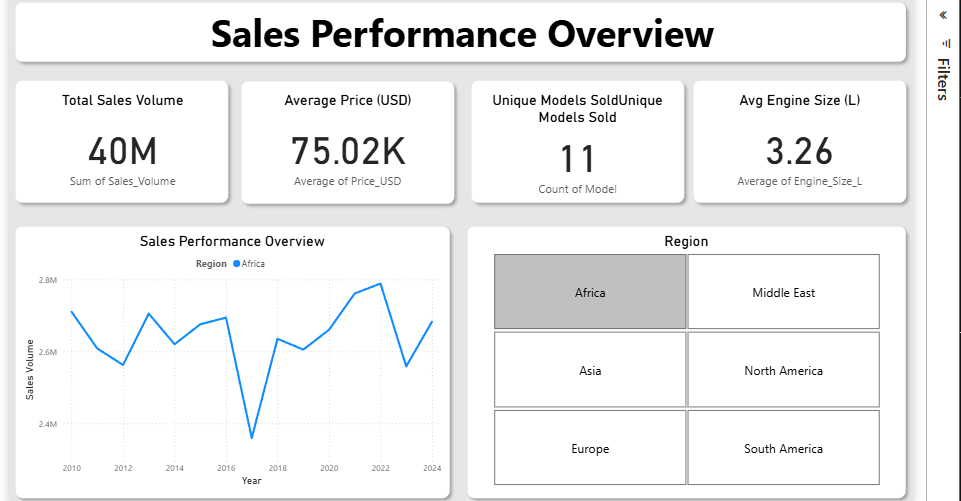

The dashboard page shown, as its layout file describes it:
{"tool":"powerbi","page":{"name":" Sales Overview","canvas":[1280,720],"ordinal":0},"visuals":[{"type":"shape","box":[0,110.9,319.7,191.5],"z":0},{"type":"shape","box":[319.7,112.3,319.7,191.5],"z":500},{"type":"shape","box":[646.6,110.9,319.7,191.5],"z":750},{"type":"shape","box":[0,0,1280.2,102.2],"z":812},{"type":"shape","box":[960.5,110.9,319.7,191.5],"z":875},{"type":"shape","box":[0,316.8,633.6,403.2],"z":937},{"type":"shape","box":[640.8,316.8,639.4,403.2],"z":968},{"type":"card","title":"Average Price (USD)","fields":{"Values":["Avg(BMW sales data (2010-2024) (1).Price_USD)"]},"box":[341.8,126.5,276.8,160.6],"z":1000},{"type":"card","title":"Total Sales Volume","fields":{"Values":["Sum(BMW sales data (2010-2024) (1).Sales_Volume)"]},"box":[22.2,126.5,276.8,160.6],"z":2000},{"type":"card","title":"Unique Models SoldUnique Models Sold","fields":{"Values":["Count(BMW sales data (2010-2024) (1).Model)"]},"box":[668.2,126.5,276.8,160.6],"z":3000},{"type":"card","title":"Avg Engine Size (L)","fields":{"Values":["Avg(BMW sales data (2010-2024) (1).Engine_Size_L)"]},"box":[982.6,126.5,276.8,160.6],"z":4000},{"type":"lineChart","title":"Sales Performance Overview","fields":{"Category":["BMW sales data (2010-2024) (1).Year"],"Y":["Sum(BMW sales data (2010-2024) (1).Sales_Volume)"],"Series":["BMW sales data (2010-2024) (1).Region"]},"box":[15.8,335.5,601.9,364.3],"z":5000},{"type":"slicer","title":"Region","fields":{"Values":["BMW sales data (2010-2024) (1).Region"]},"box":[662.4,335.5,596.2,364.3],"z":6000},{"type":"textbox","box":[21.6,10.1,1242.7,80.6],"z":7000}]}

Visuals, with their boxes on the page's 1280x720 design canvas (x1, y1, x2, y2). These are canvas units, not pixel positions in the 961x501 screenshot, which may show the page scaled, cropped or inside an application window:
shape: [0, 111, 320, 302]
shape: [320, 112, 639, 304]
shape: [647, 111, 966, 302]
shape: [0, 0, 1280, 102]
shape: [960, 111, 1280, 302]
shape: [0, 317, 634, 720]
shape: [641, 317, 1280, 720]
"Average Price (USD)" card: [342, 126, 619, 287]
"Total Sales Volume" card: [22, 126, 299, 287]
"Unique Models SoldUnique Models Sold" card: [668, 126, 945, 287]
"Avg Engine Size (L)" card: [983, 126, 1259, 287]
"Sales Performance Overview" lineChart: [16, 336, 618, 700]
"Region" slicer: [662, 336, 1259, 700]
textbox: [22, 10, 1264, 91]
